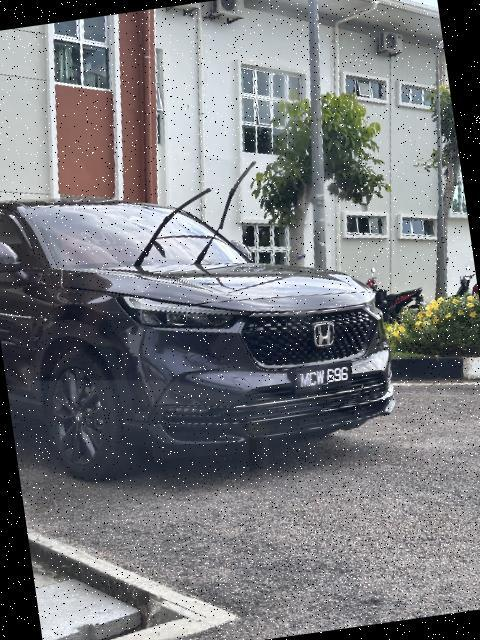License_Plate: (291, 360, 360, 400)
MCW696: (291, 360, 360, 400)
car: (1, 140, 412, 498)
